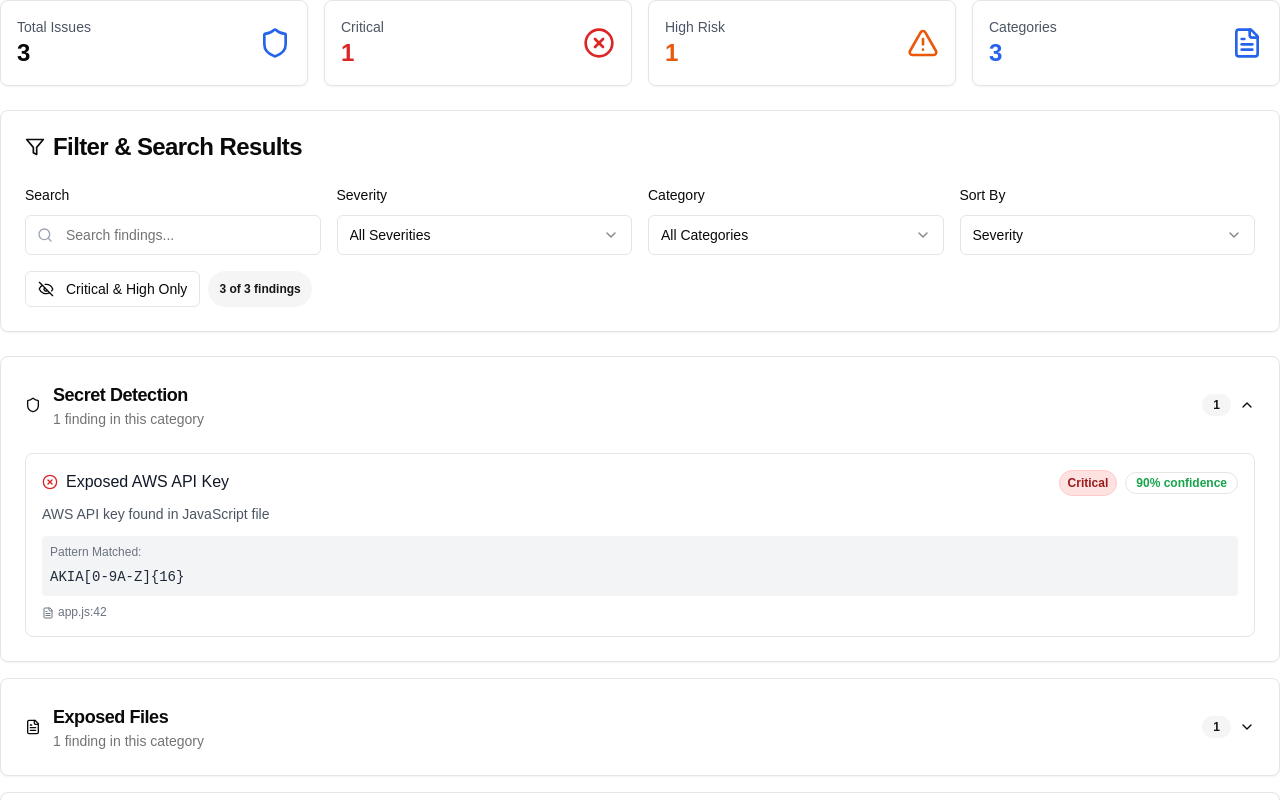
Scenario: EnhancedResultsDisplay › filters findings by search term
The width and height of the screenshot is (1280, 800).
Type "AWS" into the field with placeholder "Search findings...".
click(173, 235); type("AWS")  # box [25, 215, 320, 255]
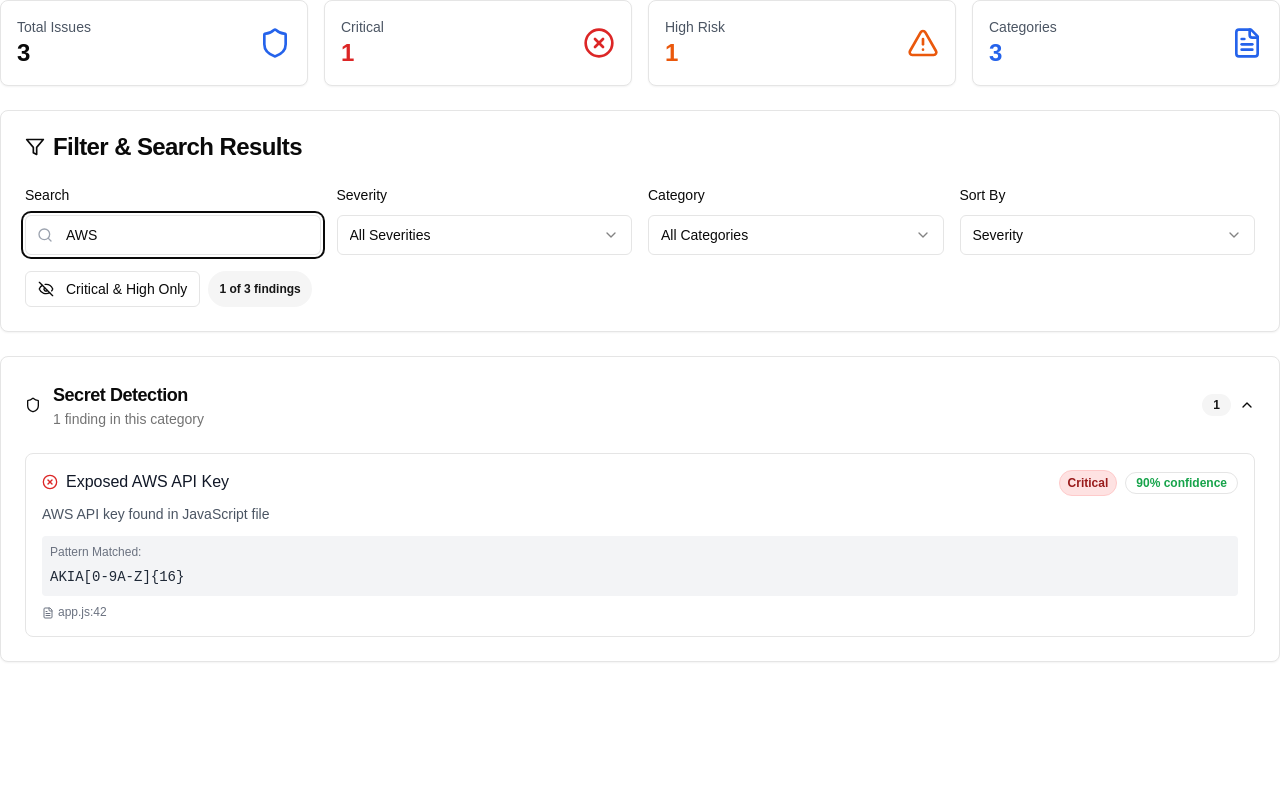
Expected: the heading "Exposed AWS API Key" is shown, [66, 470, 229, 494]
Result: the text "1 of 3 findings" is shown at [208, 271, 312, 307]
